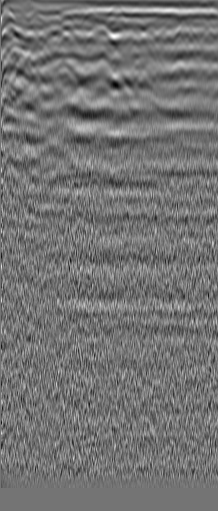오수: (20, 22, 40, 42)
우수: (170, 27, 190, 47)
